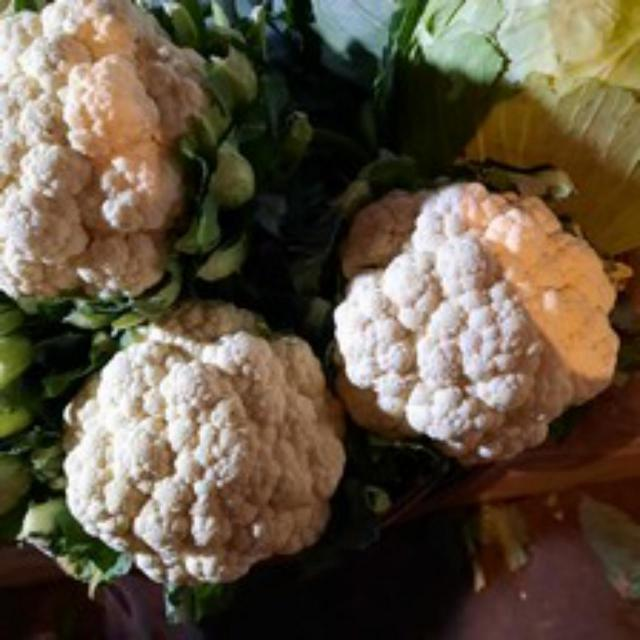cauliflower: (313, 165, 630, 476)
